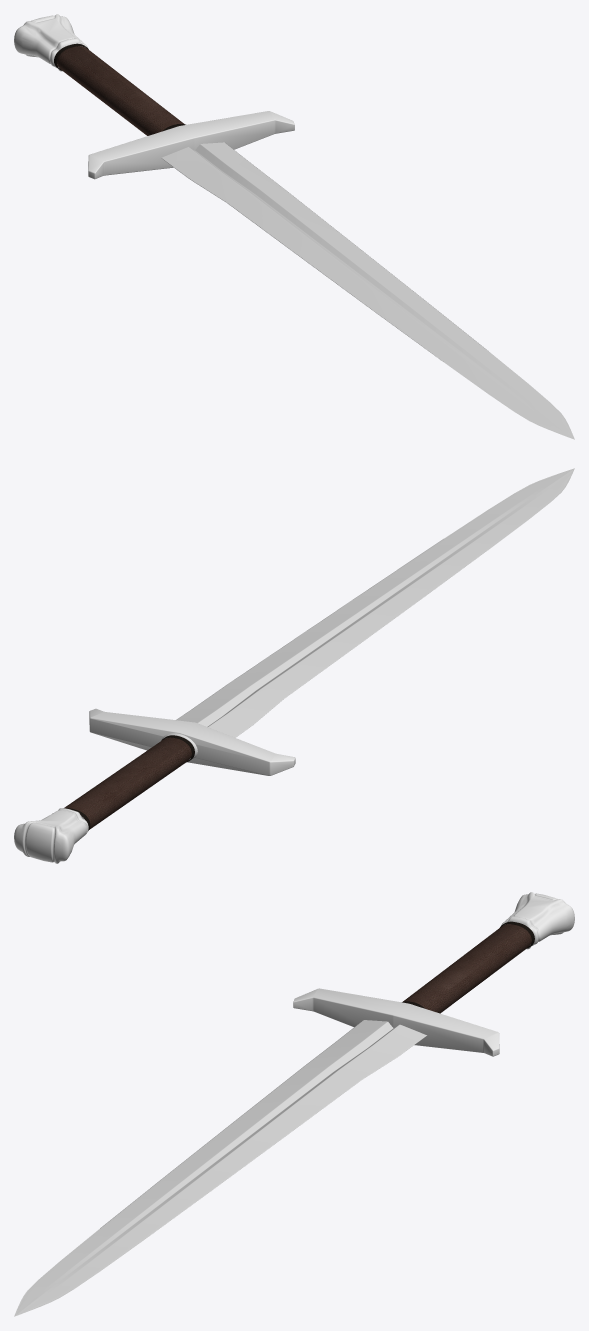
The model's file is меч.fbx.
3 views of the same model, one above another, from view 1: azimuth 30°, elevation 25°; view 2: azimuth 150°, elevation 25°; view 3: azimuth 330°, elevation 25° (orthographic).
Visible parts, largest first — view 1: sword; view 2: sword; view 3: sword.
Part boxes in pixels (x1=…): sword: x1=14, y1=14, x2=574, y2=439; sword: x1=14, y1=468, x2=574, y2=863; sword: x1=14, y1=892, x2=574, y2=1316.
Size of the model in its own units: 19.74 by 3.36 by 89.69.
Materials: 5 (2 with a texture image).
